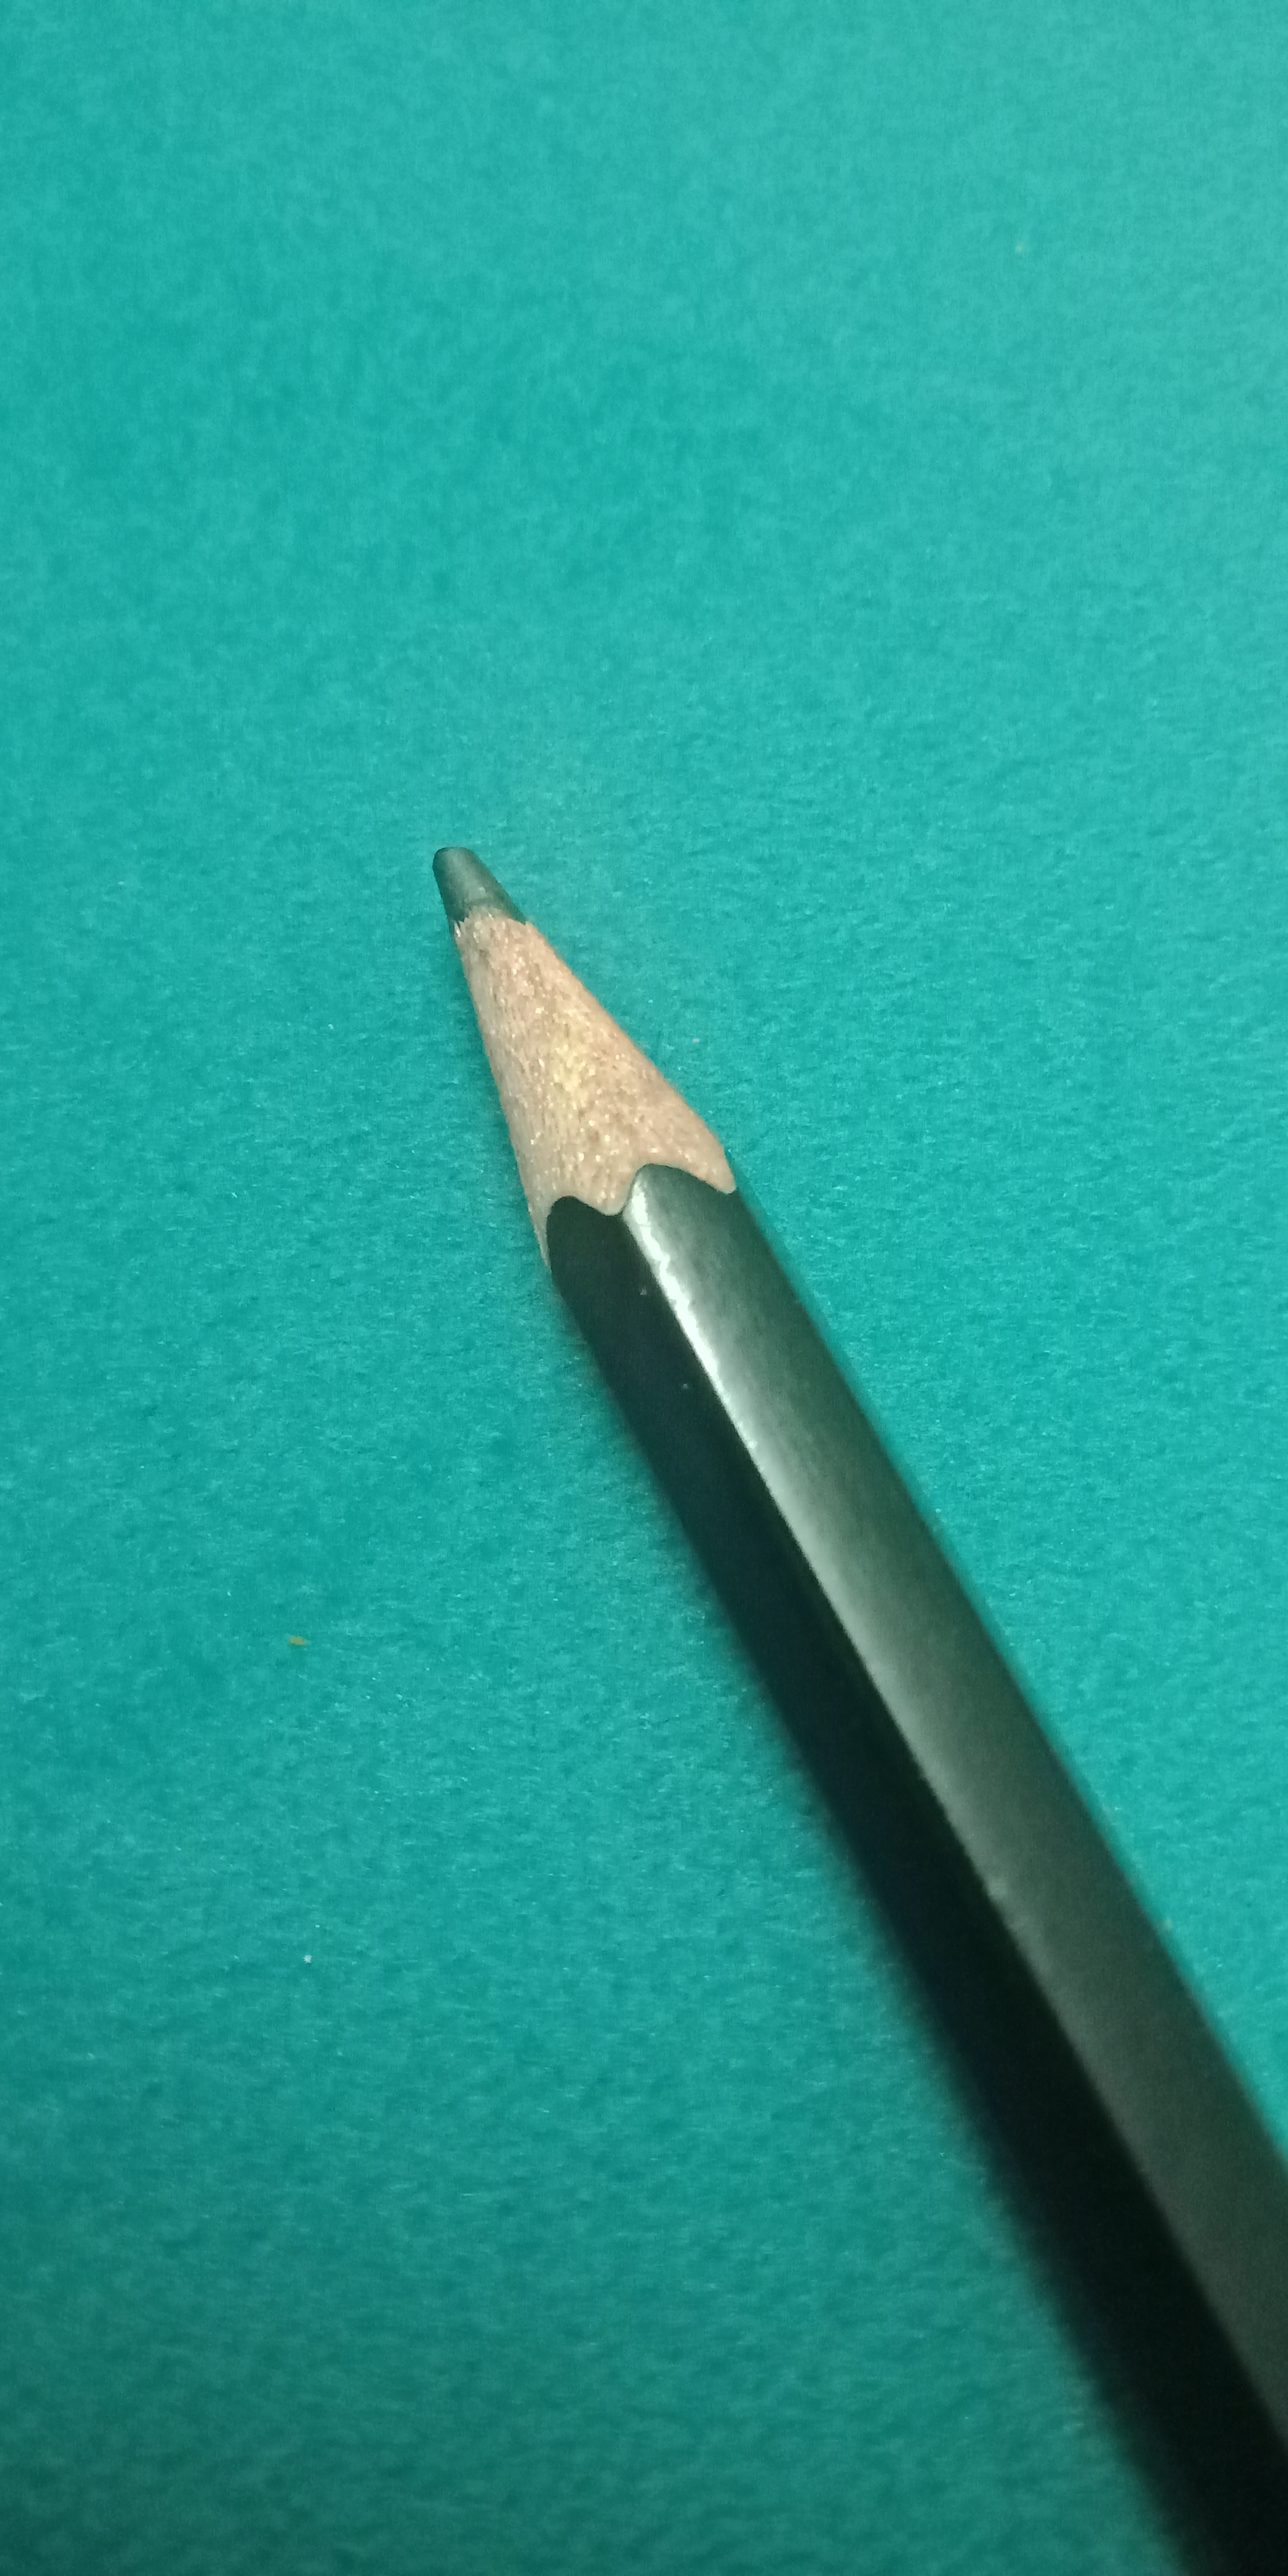pen_tip: (350, 772, 800, 1337)
